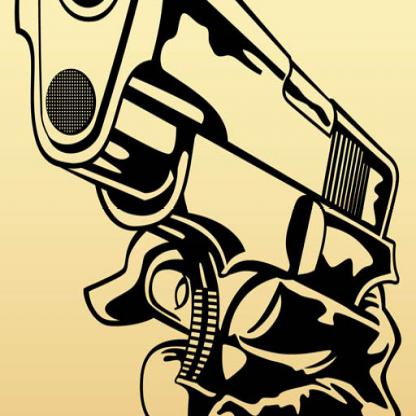gun: (14, 0, 406, 415)
